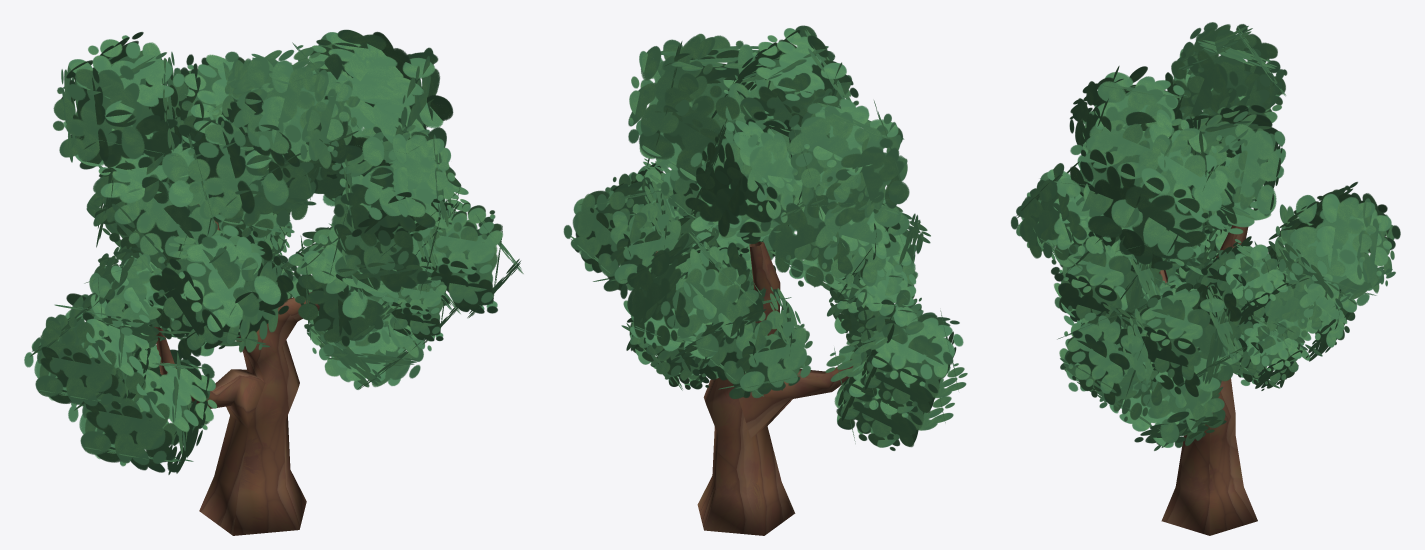
File: SM_Tree_01.glb
3 renders of one model, left to right at view 1: azimuth 30°, elevation 25°; view 2: azimuth 150°, elevation 25°; view 3: azimuth 270°, elevation 25°, orthographic. The views are drawn at different scales.
Parts seen in each view (by area): view 1: SM_Tree_01; view 2: SM_Tree_01; view 3: SM_Tree_01.
Boxes of the visible parts, left/top/right/bottom form: SM_Tree_01: left=24, top=29, right=523, bottom=535; SM_Tree_01: left=563, top=25, right=967, bottom=535; SM_Tree_01: left=1011, top=22, right=1400, bottom=535.
Bounding box in the file's own units: 6.9 × 7.32 × 6.1.
Materials: 2 (2 with a texture image).
